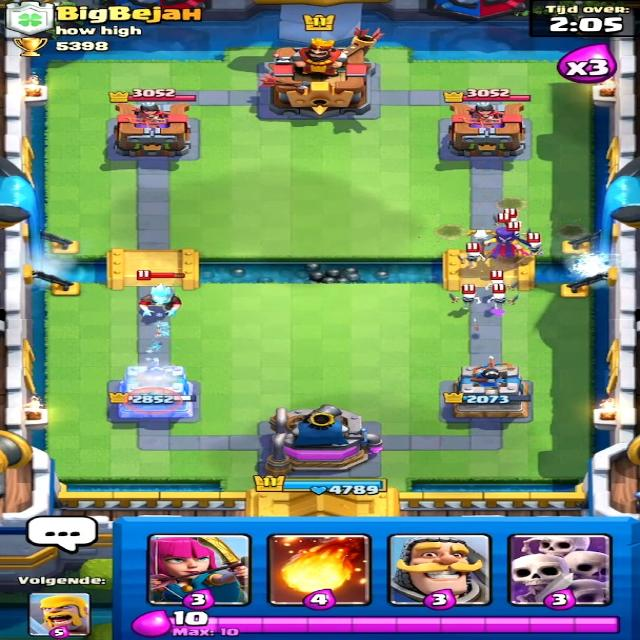Enemy_Ice_Wizard_Troop: (127, 287, 191, 312)
Enemy_Skeleton_Troop: (449, 286, 486, 314), (483, 288, 518, 317), (528, 235, 549, 260), (462, 245, 482, 265)
Enemy_Witch_Troop: (459, 226, 533, 263)
Fireball_Card: (269, 534, 366, 605)
